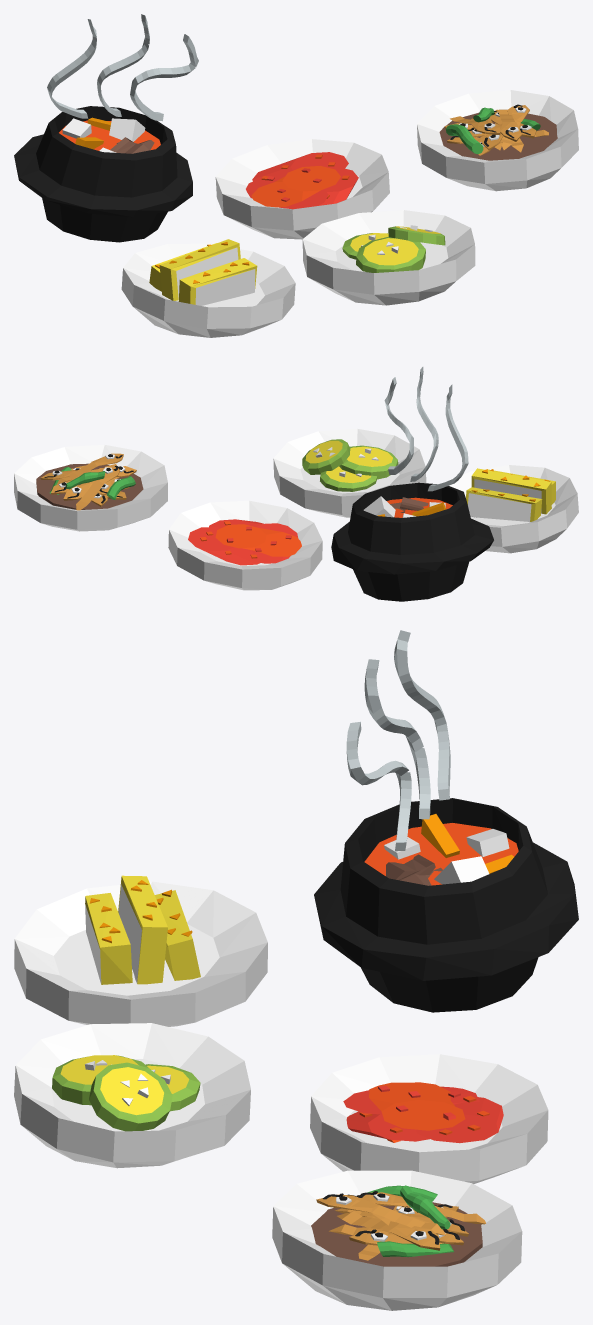
File: nutrients.glb
The picture shows the model from 3 angles, top to bottom: view 1: azimuth 30°, elevation 25°; view 2: azimuth 150°, elevation 25°; view 3: azimuth 270°, elevation 25°; orthographic projection. The views are drawn at different scales.
Visible parts, largest first — view 1: group291708268, group1027604033, group1892145919, group743613316, group1853662995, group78138743, group1885384129, group1686163281, group1734184588, group183003982, group1756530550, group739660613 (+10 smaller); view 2: group291708268, group1892145919, group1853662995, group1027604033, group743613316, group123648203, group1885384129, group1686163281, group183003982, group1734184588, group739660613, group731166158 (+10 smaller); view 3: group291708268, group743613316, group1027604033, group1853662995, group1892145919, group731166158, group1686163281, group183003982, group1885384129, group78138743, group1448228365, group1660786151 (+11 smaller).
Boxes of the visible parts, bbox=[...] form: group291708268: bbox=[14, 106, 192, 242]; group1027604033: bbox=[302, 210, 475, 305]; group1892145919: bbox=[215, 139, 389, 239]; group743613316: bbox=[121, 243, 295, 337]; group1853662995: bbox=[417, 90, 578, 191]; group78138743: bbox=[178, 258, 257, 305]; group1885384129: bbox=[251, 166, 340, 207]; group1686163281: bbox=[159, 239, 240, 300]; group1734184588: bbox=[356, 237, 425, 272]; group183003982: bbox=[439, 112, 557, 160]; group1756530550: bbox=[130, 34, 198, 121]; group739660613: bbox=[252, 152, 348, 181]; group291708268: bbox=[331, 482, 493, 601]; group1892145919: bbox=[168, 500, 322, 590]; group1853662995: bbox=[14, 444, 167, 531]; group1027604033: bbox=[273, 428, 426, 517]; group743613316: bbox=[449, 465, 578, 553]; group123648203: bbox=[466, 487, 542, 521]; group1885384129: bbox=[215, 524, 301, 556]; group1686163281: bbox=[471, 468, 551, 514]; group183003982: bbox=[36, 463, 143, 509]; group1734184588: bbox=[339, 445, 398, 479]; group739660613: bbox=[188, 527, 260, 565]; group731166158: bbox=[302, 439, 350, 474]; group291708268: bbox=[314, 798, 578, 1012]; group743613316: bbox=[14, 881, 267, 1026]; group1027604033: bbox=[14, 1023, 250, 1168]; group1853662995: bbox=[272, 1170, 522, 1310]; group1892145919: bbox=[310, 1054, 548, 1183]; group731166158: bbox=[89, 1062, 172, 1131]; group1686163281: bbox=[118, 875, 167, 984]; group183003982: bbox=[311, 1202, 482, 1266]; group1885384129: bbox=[369, 1082, 465, 1130]; group78138743: bbox=[85, 893, 132, 984]; group1448228365: bbox=[364, 823, 518, 885]; group1660786151: bbox=[364, 659, 430, 819].
Bounding box in the file's own units: 2.08 × 0.9742 × 1.32.
